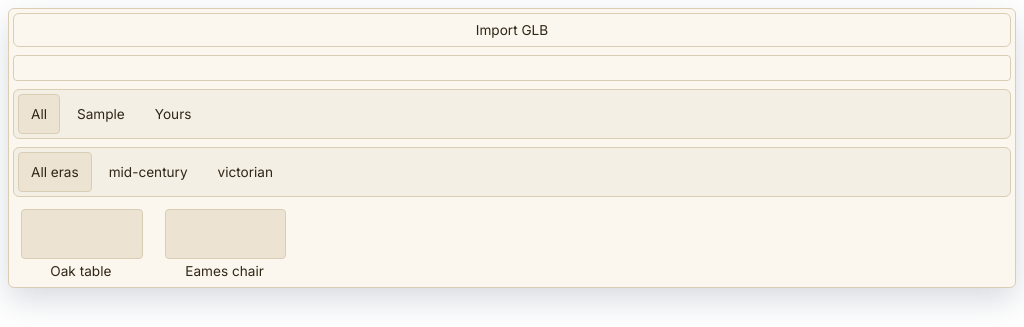
Test case: LibraryPanel filtering › filters items by a case-insensitive name search
This screenshot has width=1024, height=327.
Expected: the button "Eames chair" is shown, [157, 205, 292, 283]
Expected: the button "Oak table" is shown, [13, 205, 149, 283]
Type "chair" into the search field named "search furniture" at (512, 68), box [13, 55, 1011, 81]
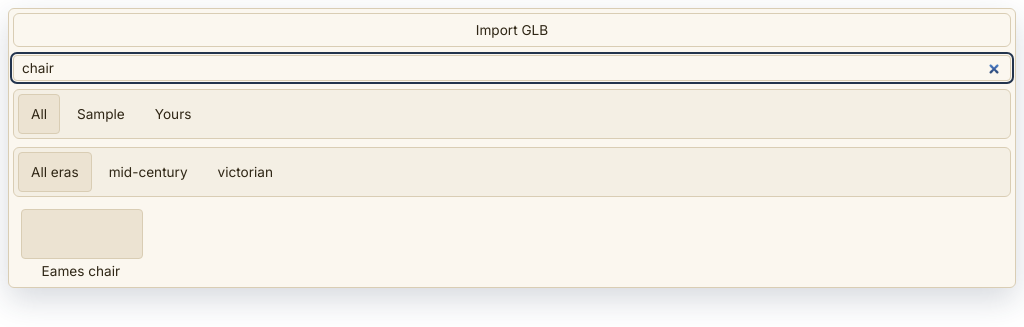
Expected: the button "Eames chair" is shown, [13, 205, 149, 283]
Result: the button "Oak table" is gone
